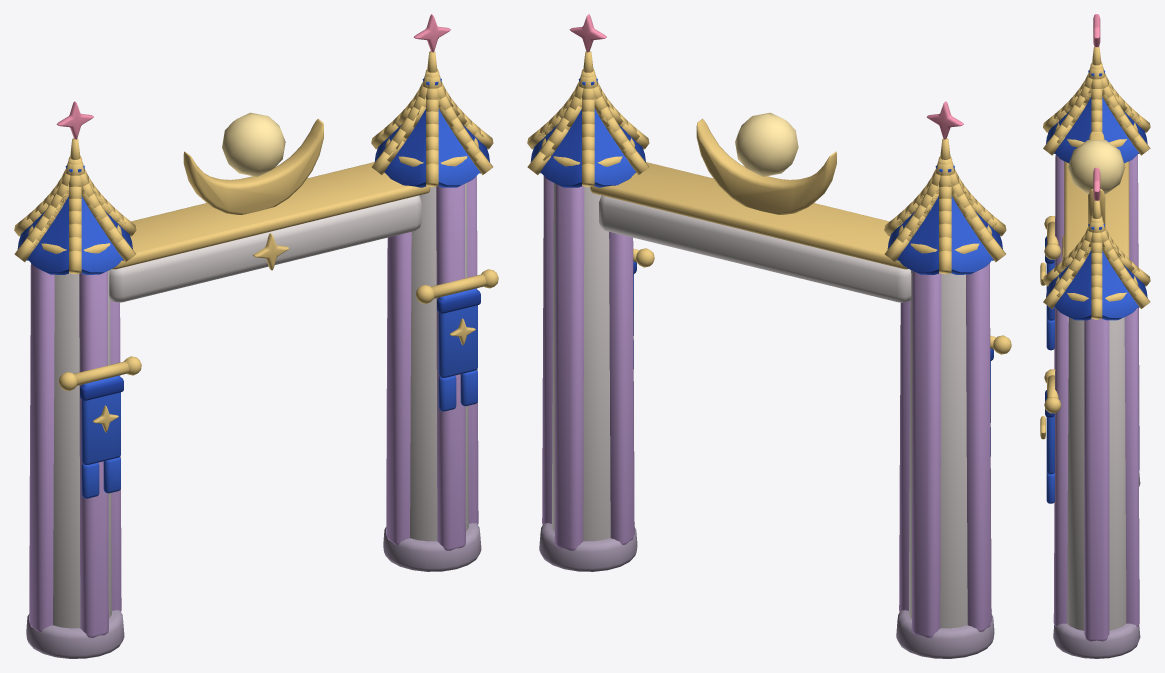
The model's file is WallGate.glb.
3 renders of one model, left to right at view 1: azimuth 30°, elevation 25°; view 2: azimuth 150°, elevation 25°; view 3: azimuth 270°, elevation 25°, orthographic. The views are drawn at different scales.
Visible parts, largest first — view 1: WallGate; view 2: WallGate; view 3: WallGate.
Boxes of the visible parts, <box> form: WallGate: <box>14,14,498,658</box>; WallGate: <box>527,14,1011,658</box>; WallGate: <box>1040,14,1150,658</box>.
Size of the model in its own units: 2.54 by 2.74 by 0.5768.
